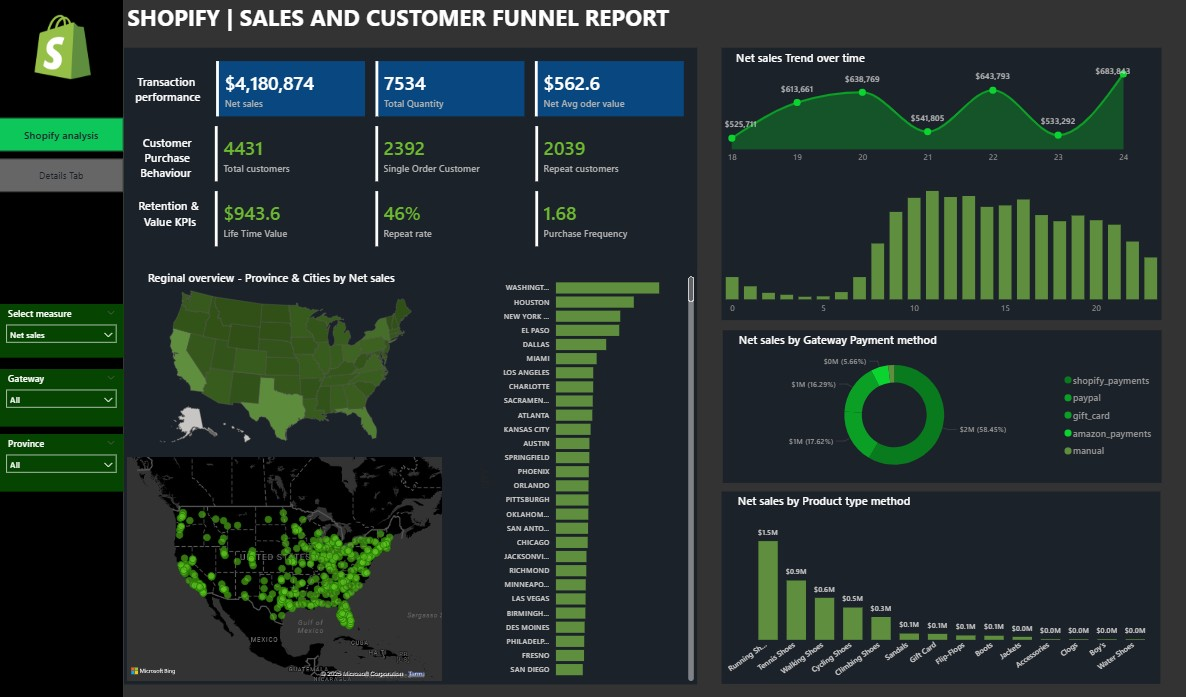

Layout of this report page (visuals, bound fields, positions):
{"tool":"powerbi","page":{"name":"Shopify analysis","canvas":[1700,1000],"ordinal":0},"visuals":[{"type":"shape","box":[0,0,178.6,1000.5],"z":0},{"type":"textbox","box":[178.6,0,809.2,69.3],"z":1000},{"type":"shape","box":[178.6,69.3,820,315],"z":2000},{"type":"cardVisual","fields":{"Data":["shopify_sales.Net sales","shopify_sales.Total Quantity","shopify_sales.Net Avg oder value"]},"box":[305.7,83.9,681.4,89.9],"z":3000},{"type":"card","fields":{"Values":["shopify_sales.Transaction performance"]},"box":[178.8,83.3,126,89.4],"z":4000},{"type":"cardVisual","fields":{"Data":["shopify_sales.Total customers","shopify_sales.Single Order Customer","shopify_sales.Repeat customers"]},"box":[304.8,177.4,682.1,89.3],"z":5000},{"type":"card","fields":{"Values":["shopify_sales.Customer Purchase Behaviour"]},"box":[181,177.4,125,92.9],"z":6000},{"type":"cardVisual","fields":{"Data":["shopify_sales.Life Time Value","shopify_sales.Repeat rate","shopify_sales.Purcchase Frequency"]},"box":[304.8,270.2,682.1,89.3],"z":7000},{"type":"card","fields":{"Values":["shopify_sales.Retention & Value KPIs"]},"box":[182.1,270.2,125,89.3],"z":8000},{"type":"shape","box":[179,385.2,819.8,596.3],"z":9000},{"type":"shapeMap","fields":{"Value":["shopify_sales.Net sales"],"Category":["shopify_sales.Billing Address Province"]},"box":[182.7,400,455.6,250.6],"z":10000},{"type":"slicer","fields":{"Values":["Select measure.Select measure"]},"box":[0,437.1,178.3,76.7],"z":11000},{"type":"map","fields":{"Category":["shopify_sales.Corrected location"]},"box":[179.1,650.4,460,329.9],"z":12000},{"type":"clusteredBarChart","fields":{"Y":["shopify_sales.Net sales"],"Category":["shopify_sales.CITY"]},"box":[682.7,385.2,316,596.3],"z":13000},{"type":"card","fields":{"Values":["shopify_sales.Map Title"]},"box":[182.7,384,414.8,32.1],"z":14000},{"type":"shape","box":[1033.4,69.7,629.4,389.8],"z":15000},{"type":"areaChart","fields":{"Y":["shopify_sales.Net sales"],"Category":["shopify_sales.Invoice Date.Variation.Date Hierarchy.Day"]},"box":[1033,84.8,590,160.2],"z":16000},{"type":"columnChart","fields":{"Y":["shopify_sales.Net sales"],"Category":["shopify_sales.Hour"]},"box":[1033,245.1,629.6,214.9],"z":17000},{"type":"card","fields":{"Values":["shopify_sales.Trend title"]},"box":[1014.2,69.7,265.8,32],"z":18000},{"type":"shape","box":[1034.9,473.2,627.7,218.7],"z":19000},{"type":"donutChart","fields":{"Y":["shopify_sales.Net sales"],"Category":["shopify_sales.Gateway"]},"box":[1033,499.6,629.6,192.3],"z":20000},{"type":"card","fields":{"Values":["Select measure.Gateway Title"]},"box":[1053.8,473.2,294.1,32],"z":21000},{"type":"shape","box":[1033,705,627.7,275.2],"z":22000},{"type":"columnChart","fields":{"Y":["shopify_sales.Net sales"],"Category":["shopify_sales.Product Type"]},"box":[1034.9,737.1,625.9,243.2],"z":23000},{"type":"card","fields":{"Values":["Select measure.Product Title"]},"box":[1033,705,294.1,32],"z":24000},{"type":"image","box":[26.8,17.9,128.7,101.9],"z":25000},{"type":"slicer","fields":{"Values":["shopify_sales.Gateway"]},"box":[0,529.5,178.3,82.4],"z":26000},{"type":"slicer","fields":{"Values":["shopify_sales.Billing Address Province"]},"box":[0,623,178.3,82.4],"z":27000},{"type":"pageNavigator","box":[0,169.9,178.8,107.3],"z":28000}]}

Visuals, with their boxes on the page's 1700x1000 design canvas (x1, y1, x2, y2). These are canvas units, not pixel positions in the 1186x697 screenshot, which may show the page scaled, cropped or inside an application window:
shape: (left=0, top=0, right=179, bottom=1000)
textbox: (left=179, top=0, right=988, bottom=69)
shape: (left=179, top=69, right=999, bottom=384)
cardVisual - shopify_sales.Net sales x shopify_sales.Total Quantity: (left=306, top=84, right=987, bottom=174)
card - shopify_sales.Transaction performance: (left=179, top=83, right=305, bottom=173)
cardVisual - shopify_sales.Total customers x shopify_sales.Single Order Customer: (left=305, top=177, right=987, bottom=267)
card - shopify_sales.Customer Purchase Behaviour: (left=181, top=177, right=306, bottom=270)
cardVisual - shopify_sales.Life Time Value x shopify_sales.Repeat rate: (left=305, top=270, right=987, bottom=360)
card - shopify_sales.Retention & Value KPIs: (left=182, top=270, right=307, bottom=360)
shape: (left=179, top=385, right=999, bottom=982)
shapeMap - shopify_sales.Net sales x shopify_sales.Billing Address Province: (left=183, top=400, right=638, bottom=651)
slicer - Select measure.Select measure: (left=0, top=437, right=178, bottom=514)
map - shopify_sales.Corrected location: (left=179, top=650, right=639, bottom=980)
clusteredBarChart - shopify_sales.Net sales x shopify_sales.CITY: (left=683, top=385, right=999, bottom=982)
card - shopify_sales.Map Title: (left=183, top=384, right=598, bottom=416)
shape: (left=1033, top=70, right=1663, bottom=460)
areaChart - shopify_sales.Net sales x shopify_sales.Invoice Date.Variation.Date Hierarchy.Day: (left=1033, top=85, right=1623, bottom=245)
columnChart - shopify_sales.Net sales x shopify_sales.Hour: (left=1033, top=245, right=1663, bottom=460)
card - shopify_sales.Trend title: (left=1014, top=70, right=1280, bottom=102)
shape: (left=1035, top=473, right=1663, bottom=692)
donutChart - shopify_sales.Net sales x shopify_sales.Gateway: (left=1033, top=500, right=1663, bottom=692)
card - Select measure.Gateway Title: (left=1054, top=473, right=1348, bottom=505)
shape: (left=1033, top=705, right=1661, bottom=980)
columnChart - shopify_sales.Net sales x shopify_sales.Product Type: (left=1035, top=737, right=1661, bottom=980)
card - Select measure.Product Title: (left=1033, top=705, right=1327, bottom=737)
image: (left=27, top=18, right=156, bottom=120)
slicer - shopify_sales.Gateway: (left=0, top=530, right=178, bottom=612)
slicer - shopify_sales.Billing Address Province: (left=0, top=623, right=178, bottom=705)
pageNavigator: (left=0, top=170, right=179, bottom=277)
